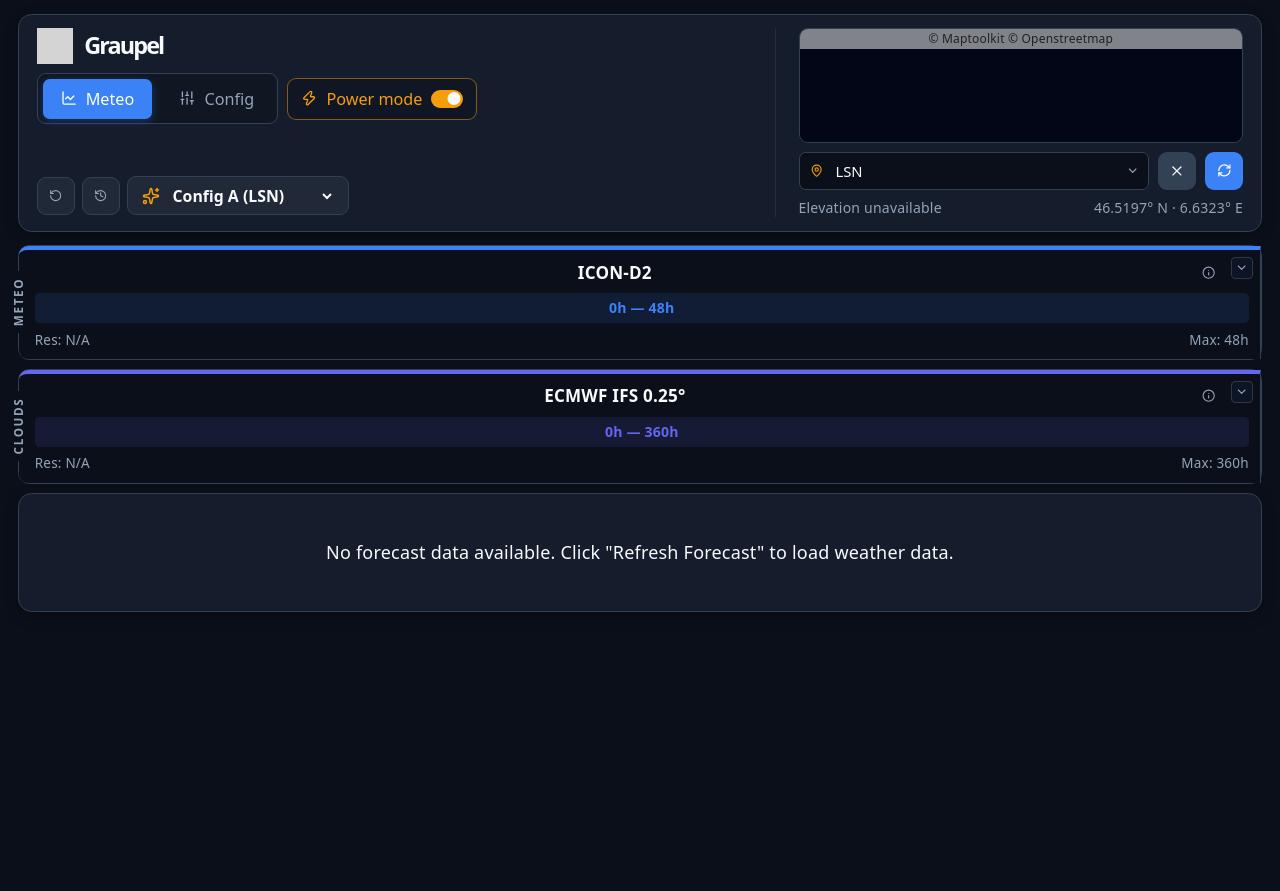
Test: Meteogram App Location State Management & Isolation › shows and edits the location display name of a configuration (#175)
Expected: the field with placeholder "Search location..." holds "LSN", [798,152,1148,190]
Click the button "Config" at (217, 98), box [161,78,272,118]
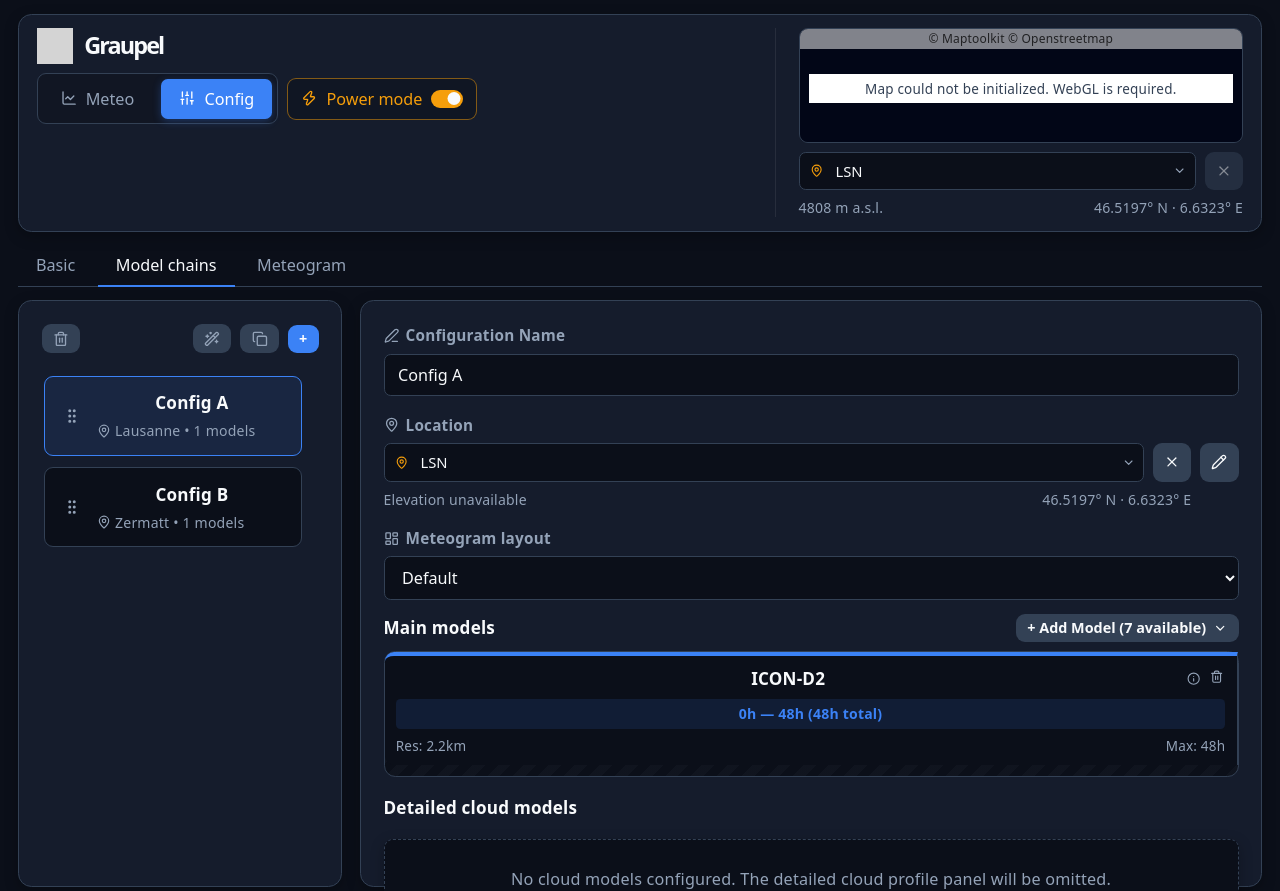
Expected: the field with placeholder "Search location..." holds "LSN", [798,152,1196,190]
Now the field with placeholder "Search configuration location..." holds "LSN", box [384,443,1144,482]
Now the field with placeholder "Search location..." is disabled, box [798,152,1196,190]
Note: Pen: a new display name is saved and shown at once.
Click the button with test id "config-location-name-btn" at (1219, 462), box [1200,443,1239,482]
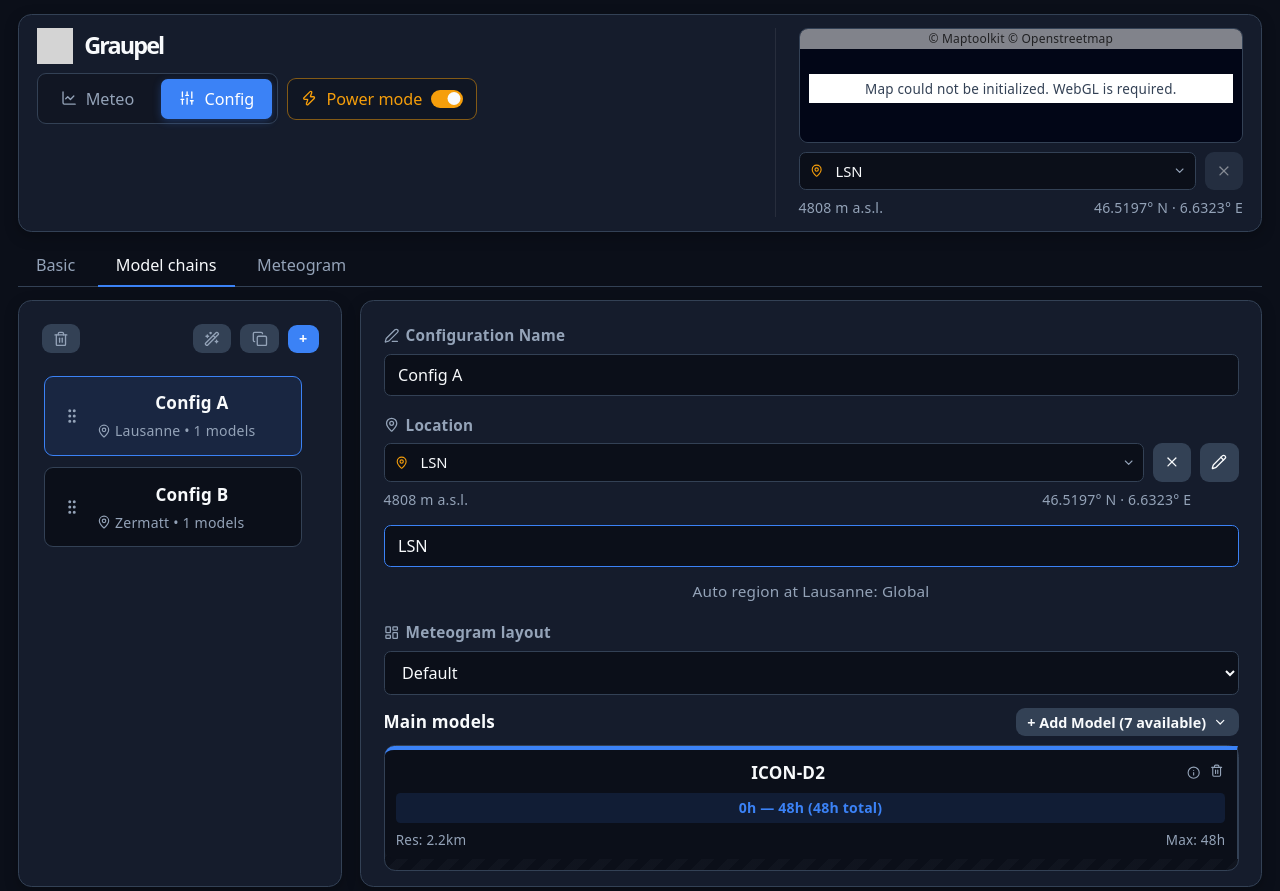
Replace the text in the field with test id "config-location-name-input" with "LAU" at (811, 546), box [384,524,1238,566]
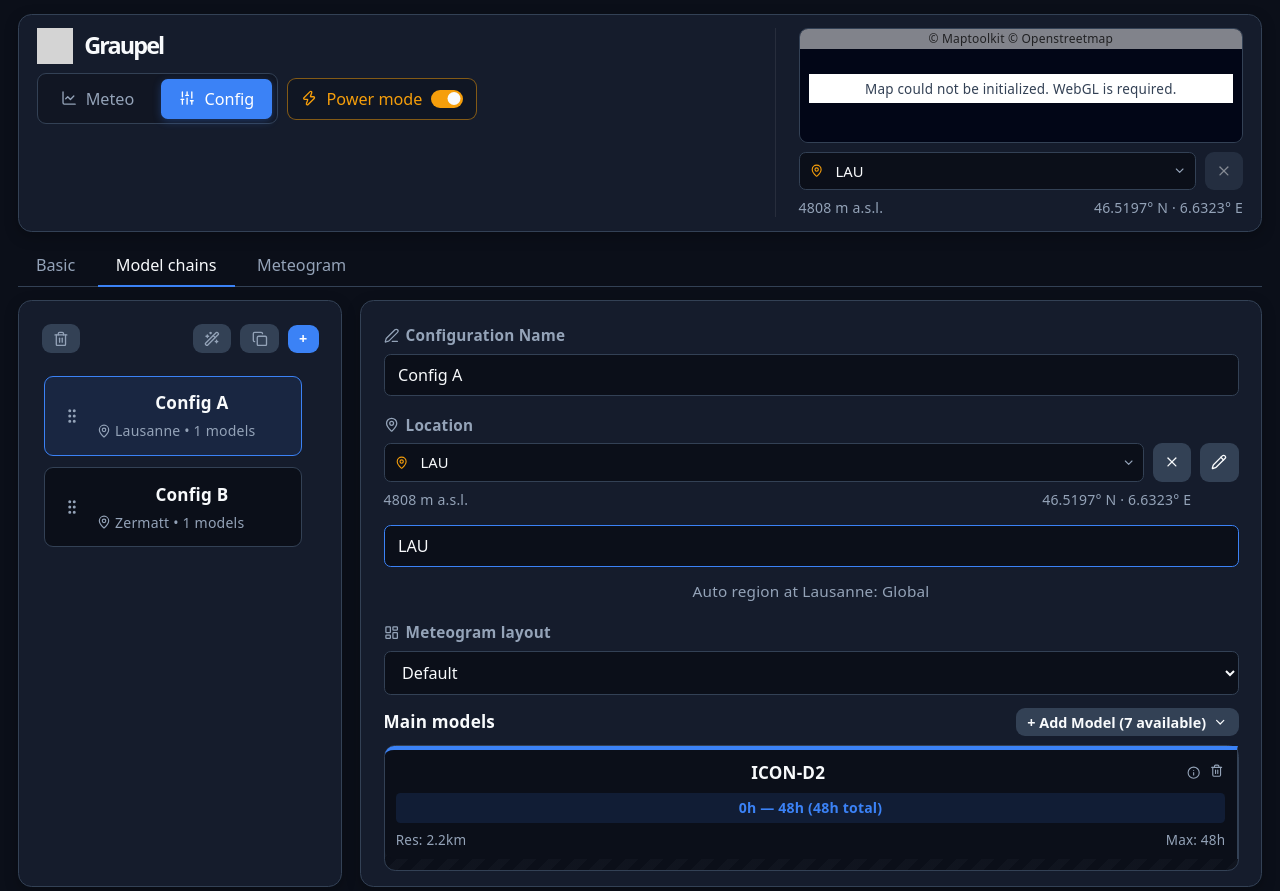
Now the field with placeholder "Search configuration location..." holds "LAU"
Now the field with placeholder "Search location..." holds "LAU", box [798,152,1196,190]
Note: A new place clears the display name.
Replace the text in the field with placeholder "Search configuration location..." with "Mont" at (764, 462), box [384,443,1144,482]
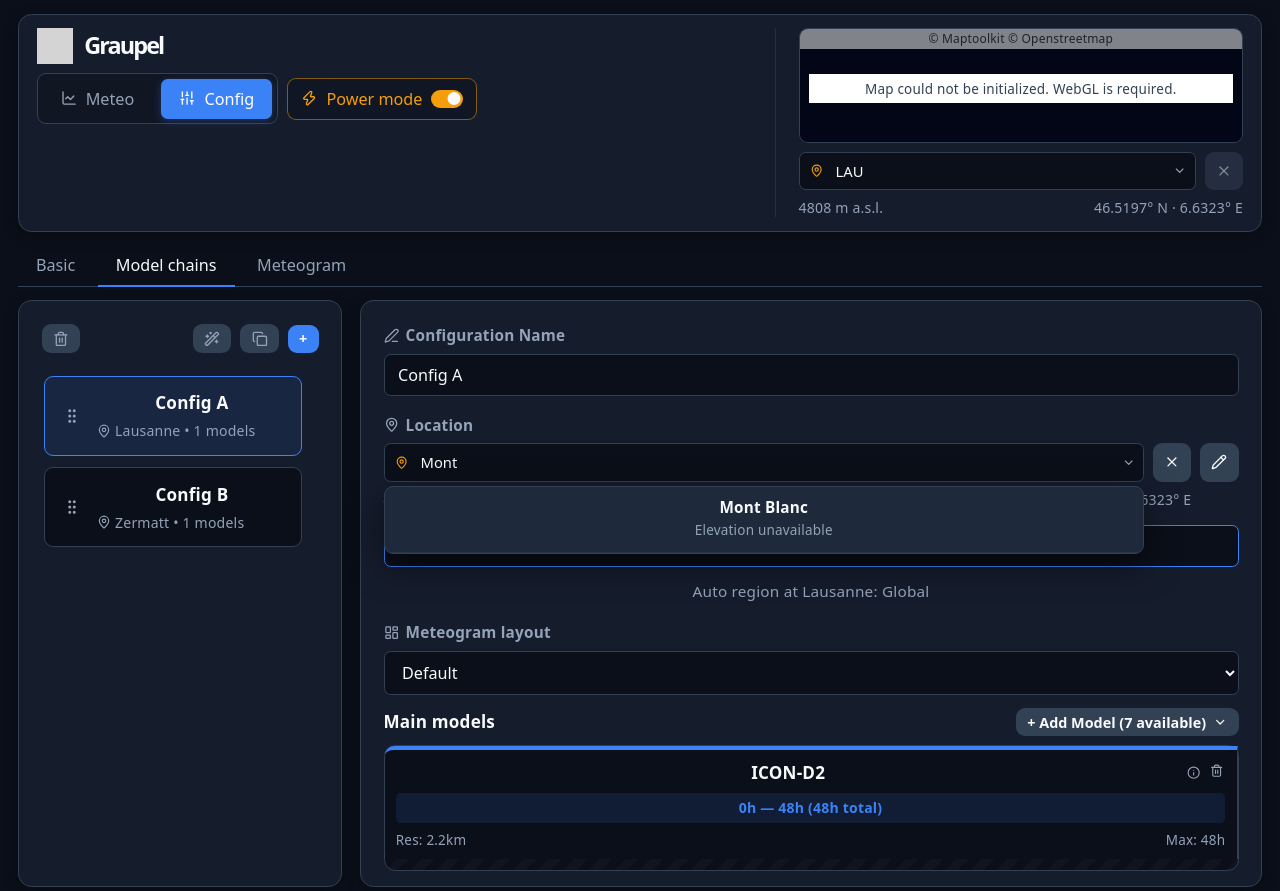
Click the option "Mont Blanc Elevation unavailable" at (764, 520), box [384,487,1143,553]
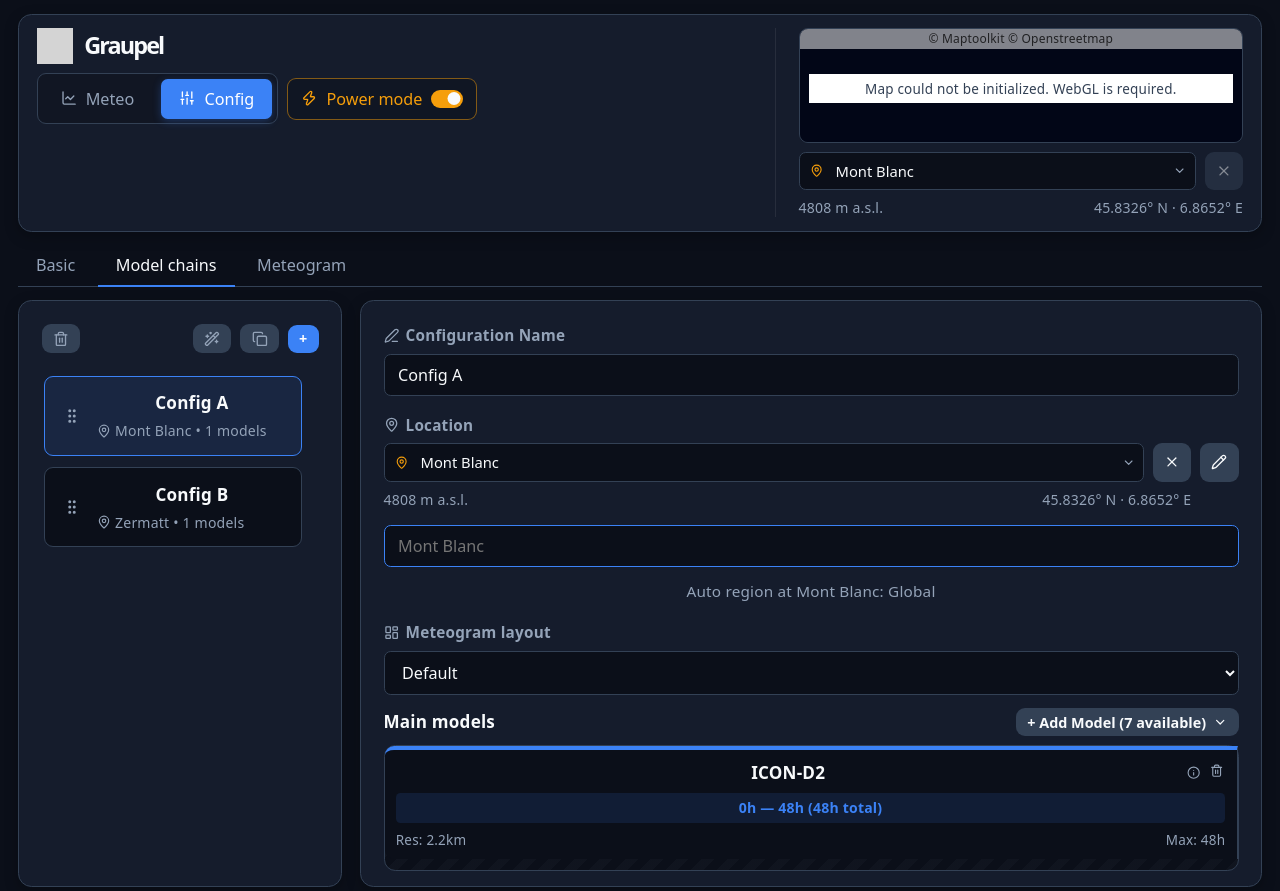
Now the field with placeholder "Search configuration location..." holds "Mont Blanc", box [384,443,1144,482]
Now the field with placeholder "Search location..." holds "Mont Blanc", box [798,152,1196,190]
